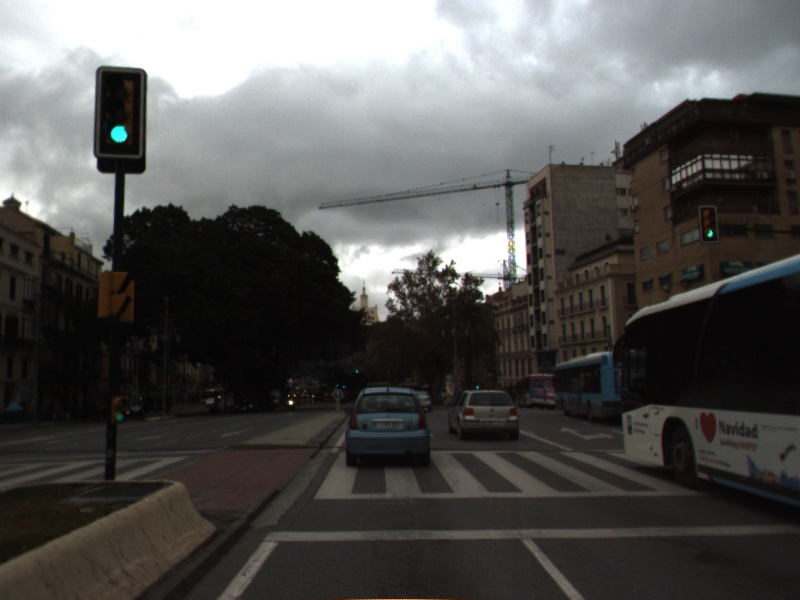STRAIGHT_RIGHT: (558, 425, 616, 442)
